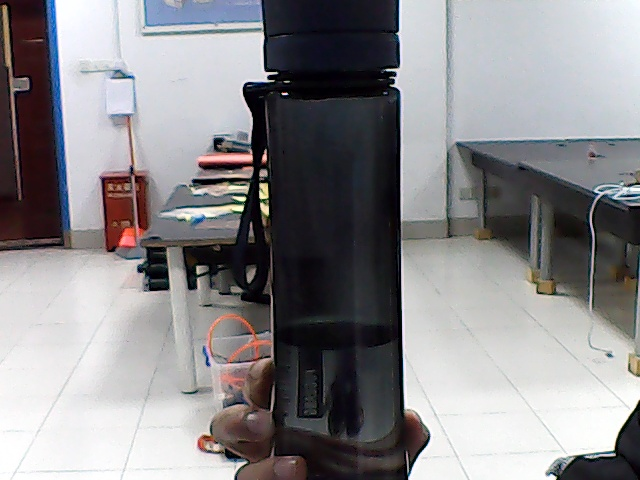cup: (266, 33, 403, 419)
